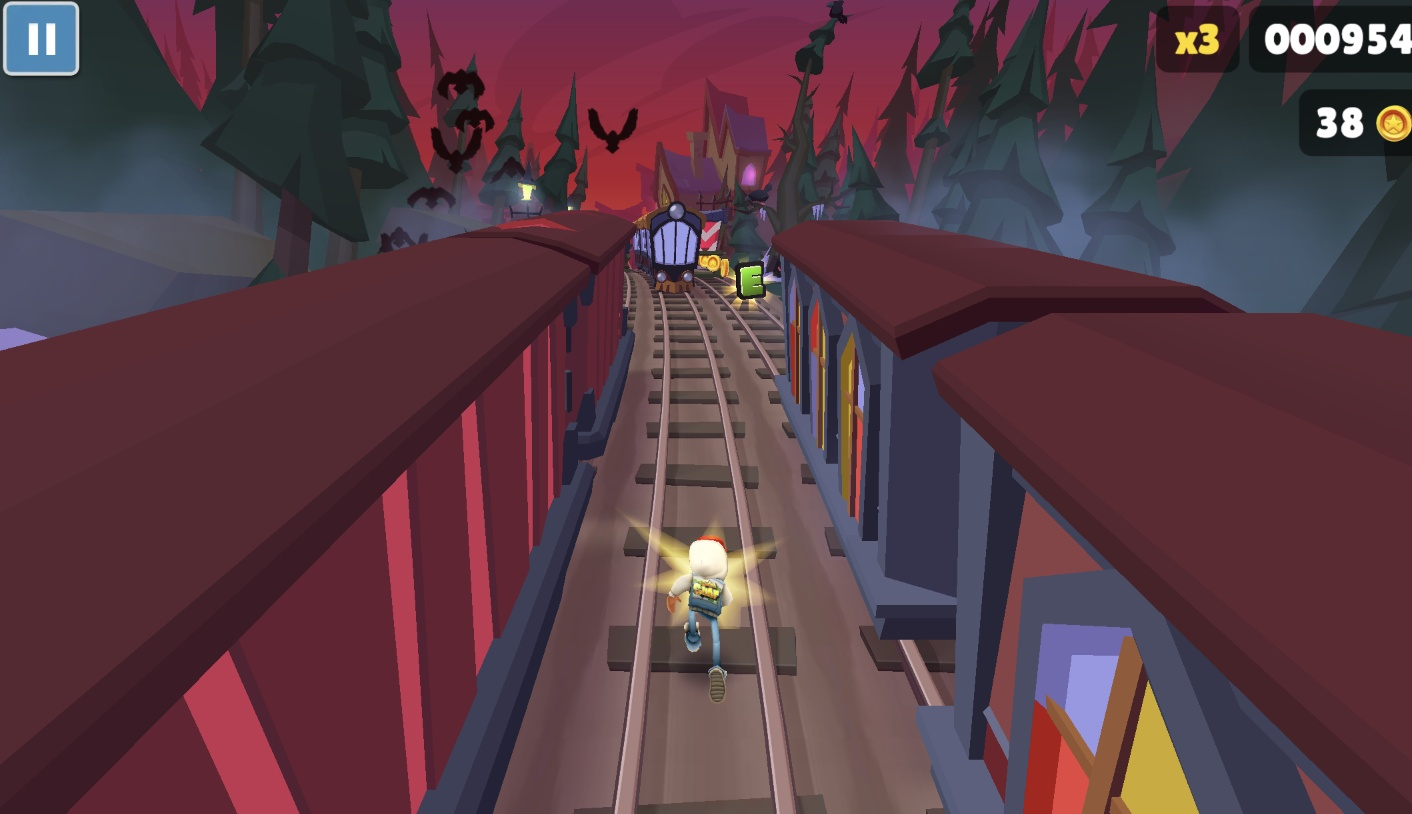overhead_barrier: (698, 212, 727, 275)
train: (0, 219, 623, 814), (816, 256, 1412, 814), (636, 202, 708, 299)
